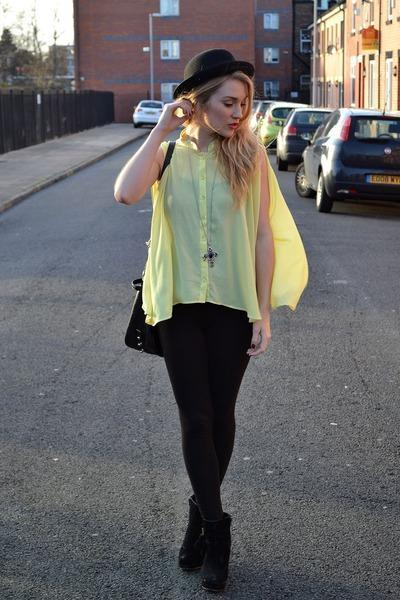hat: (173, 50, 252, 107)
pants: (153, 302, 252, 526)
shirt: (142, 132, 307, 323)
shoe: (182, 525, 230, 568)
